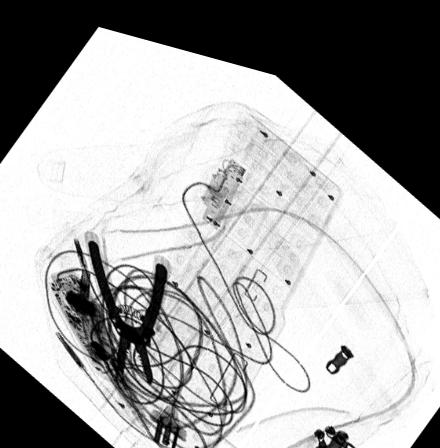Pliers: (85, 235, 168, 379)
